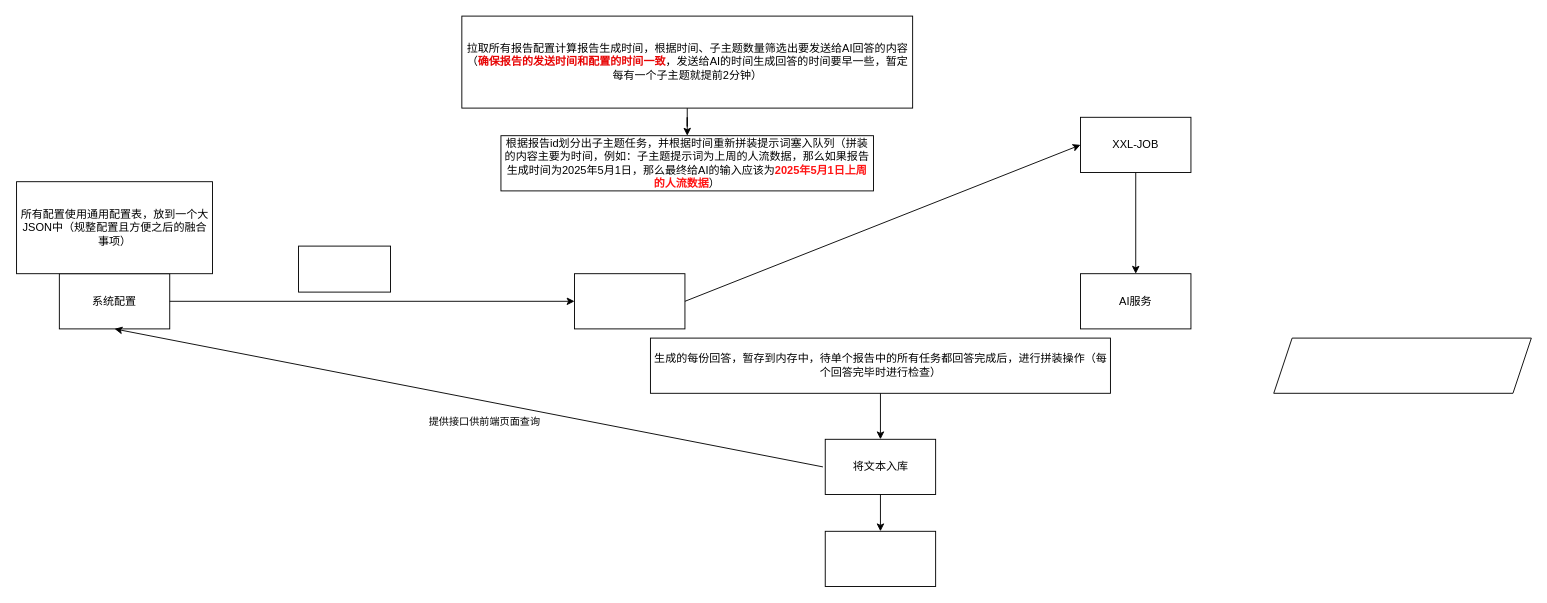
Some shapes in this 1547 by 603 pixel diagram are drawn without their labels. The centre of each missing label's shape, as x and y in pixels:
"AI服务新开报告问答接口，排除控制类落域" belongs at point 1402,365.
"基础应用" belongs at point 629,301.
"实现定时任务队列准点进行消息推送" belongs at point 880,558.
"报告生成配置" belongs at point 344,268.
